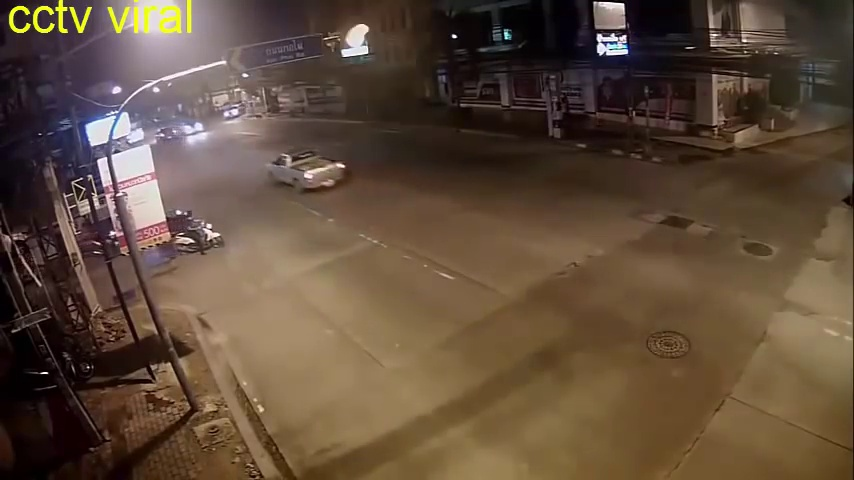car: (266, 148, 343, 195), (155, 127, 181, 150), (181, 117, 205, 138), (222, 103, 245, 120)
motorbike: (177, 212, 227, 250)
